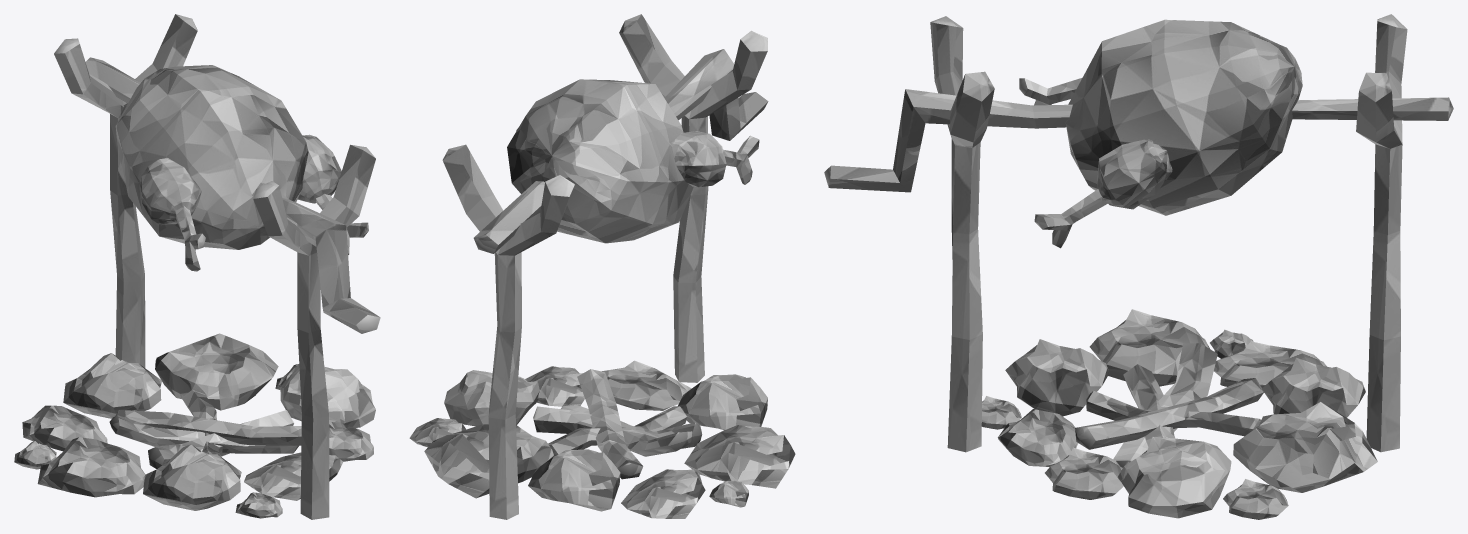
The model's file is Fireplace_01.fbx.
The picture shows the model from 3 angles, left to right: view 1: azimuth 30°, elevation 25°; view 2: azimuth 150°, elevation 25°; view 3: azimuth 270°, elevation 25°; orthographic projection. The views are drawn at different scales.
Visible parts, largest first — view 1: pCylinder15, Dodo (×2); view 2: pCylinder15, Dodo (×2); view 3: pCylinder15, Dodo (×2).
Boxes of the visible parts, x1,y1,x2,y2 form: pCylinder15: (14,14,375,519); Dodo (×2): (85,57,380,333); pCylinder15: (409,14,795,519); Dodo (×2): (473,49,768,253); pCylinder15: (930,14,1407,519); Dodo (×2): (824,19,1453,248).
Size of the model in its own units: 1.45 by 1.52 by 2.09.
